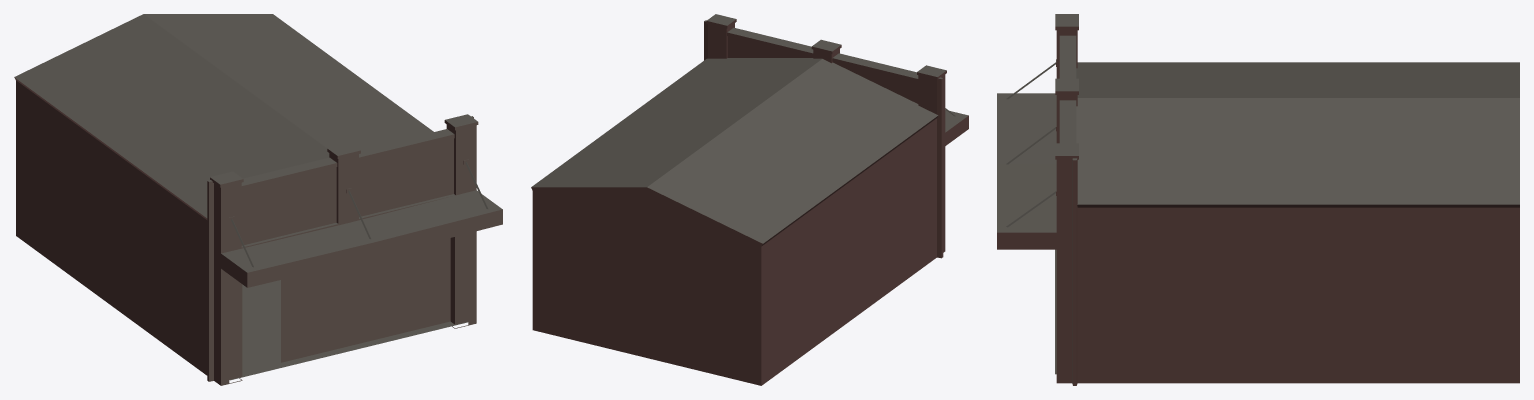
File: rural-store-1.far-facades-v3.lod2.glb
The picture shows the model from 3 angles, left to right: view 1: azimuth 30°, elevation 25°; view 2: azimuth 150°, elevation 25°; view 3: azimuth 270°, elevation 25°; orthographic projection. The views are drawn at different scales.
Visible parts, largest first — view 1: rural-store-1; view 2: rural-store-1; view 3: rural-store-1.
Boxes of the visible parts, x1=… form: rural-store-1: x1=14, y1=14, x2=502, y2=385; rural-store-1: x1=531, y1=14, x2=968, y2=385; rural-store-1: x1=997, y1=14, x2=1519, y2=385.
Bounding box in the file's own units: 8.32 × 6.06 × 12.59.
